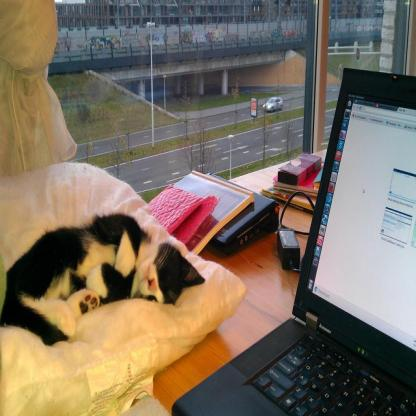board: (171, 68, 416, 416)
